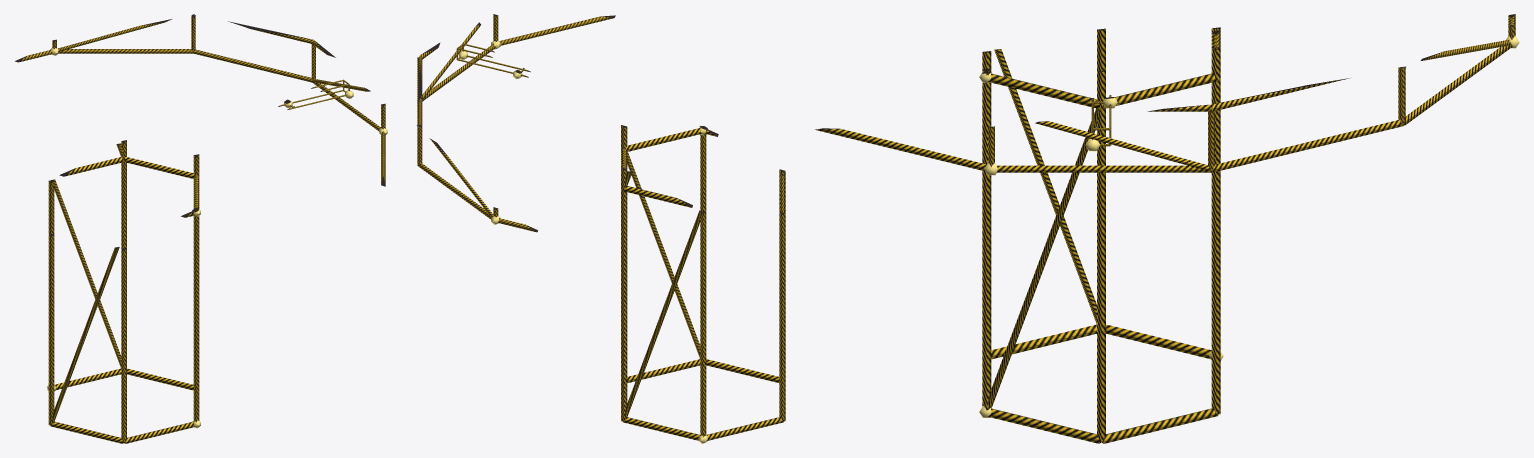
File: guard_station_build1_debris1.obj
3 views of the same model, side by side, from view 1: azimuth 30°, elevation 25°; view 2: azimuth 150°, elevation 25°; view 3: azimuth 270°, elevation 25° (orthographic). The views are drawn at different scales.
Parts seen in each view (by area): view 1: post, girder, brace; view 2: post, girder, brace, work_light; view 3: girder, post, brace, work_light.
Boxes of the visible parts, bbox=[...] form: post: bbox=[48, 15, 385, 442]; girder: bbox=[15, 21, 385, 443]; brace: bbox=[51, 19, 370, 423]; post: bbox=[417, 14, 785, 437]; girder: bbox=[417, 15, 785, 440]; brace: bbox=[422, 22, 784, 419]; work_light: bbox=[416, 40, 707, 443]; girder: bbox=[815, 14, 1515, 443]; post: bbox=[982, 25, 1515, 441]; brace: bbox=[987, 28, 1511, 409]; work_light: bbox=[979, 36, 1519, 417].
Bounding box in the file's own units: 150 × 137 × 191.
Materials: 3 (1 with a texture image).
